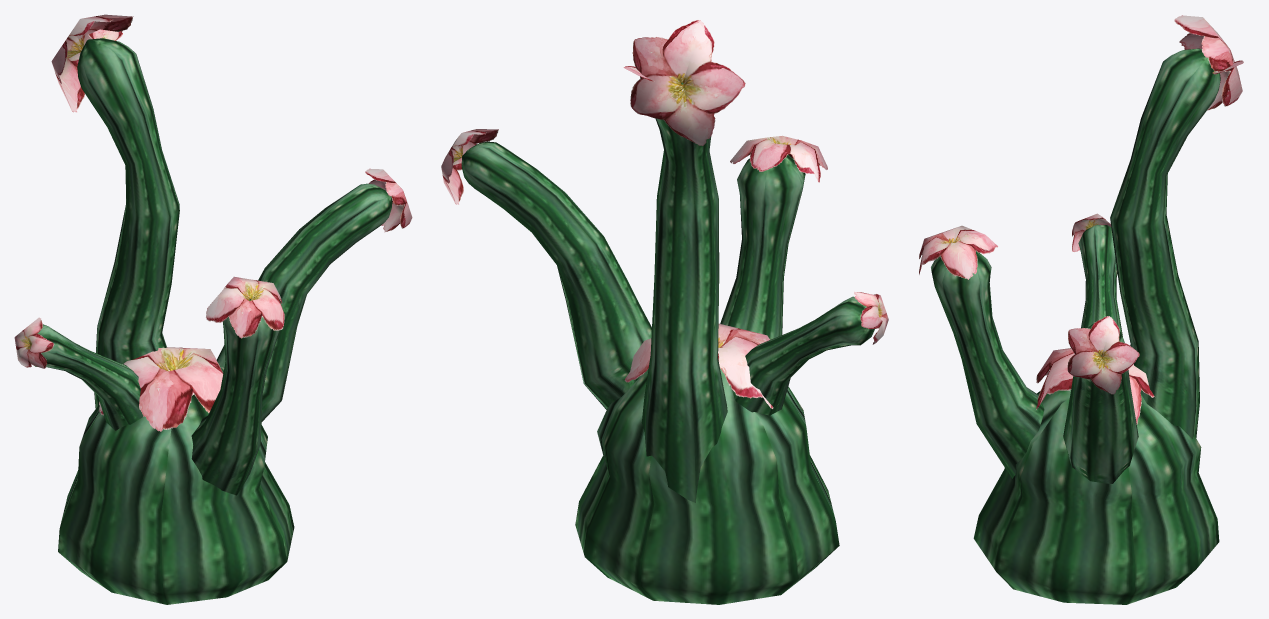
File: cactus-10.fbx
3 renders of one model, left to right at view 1: azimuth 30°, elevation 25°; view 2: azimuth 150°, elevation 25°; view 3: azimuth 270°, elevation 25°, orthographic. The views are drawn at different scales.
Parts seen in each view (by area): view 1: Cube.081_Cube.004_Cube.081_Cube.004; view 2: Cube.081_Cube.004_Cube.081_Cube.004; view 3: Cube.081_Cube.004_Cube.081_Cube.004.
Part boxes in pixels (x1,y1,x2,y2): Cube.081_Cube.004_Cube.081_Cube.004: (14, 14, 412, 604); Cube.081_Cube.004_Cube.081_Cube.004: (441, 20, 888, 604); Cube.081_Cube.004_Cube.081_Cube.004: (919, 15, 1243, 604).
Size of the model in its own units: 1.11 by 1.44 by 0.8241.
